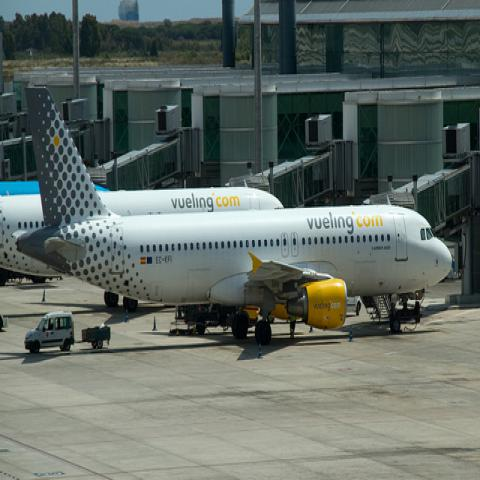truck: (24, 311, 111, 354)
